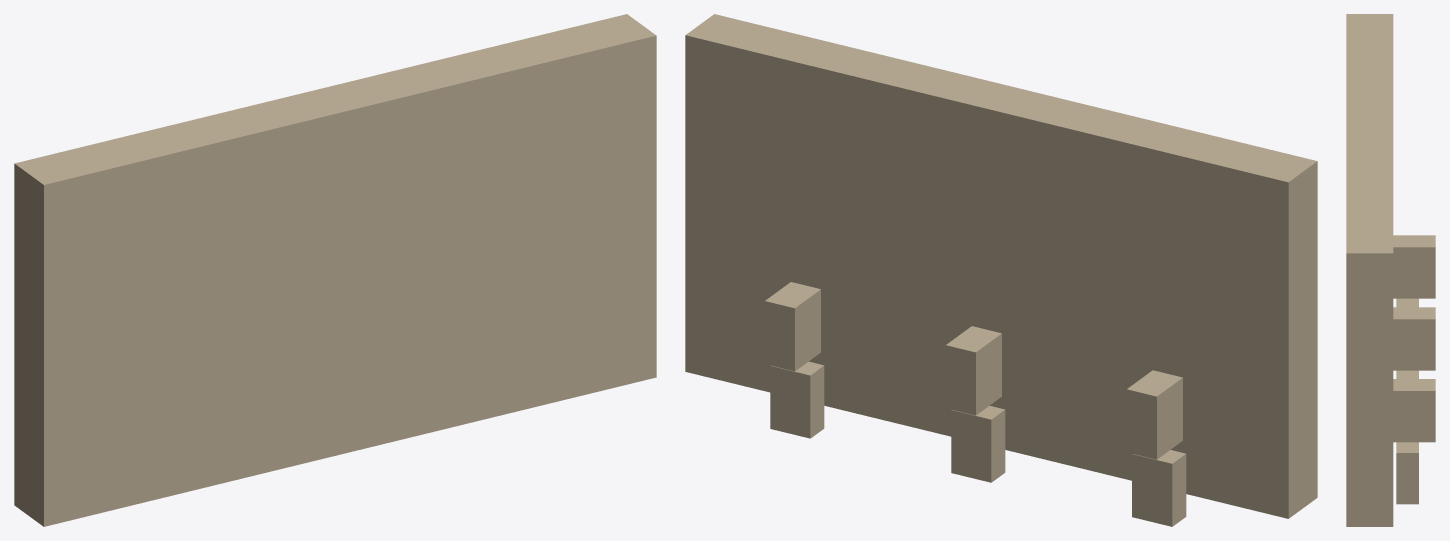
File: sub_chaveiro.glb
The picture shows the model from 3 angles, left to right: view 1: azimuth 30°, elevation 25°; view 2: azimuth 150°, elevation 25°; view 3: azimuth 270°, elevation 25°; orthographic projection. The views are drawn at different scales.
Parts seen in each view (by area): view 1: SUB_Chaveiro_v01; view 2: SUB_Chaveiro_v01; view 3: SUB_Chaveiro_v01.
Boxes of the visible parts, x1,y1,x2,y2 form: SUB_Chaveiro_v01: (14, 14, 656, 526); SUB_Chaveiro_v01: (685, 14, 1317, 526); SUB_Chaveiro_v01: (1346, 14, 1435, 526).
Size of the model in its own units: 0.3 by 0.17 by 0.0475.
